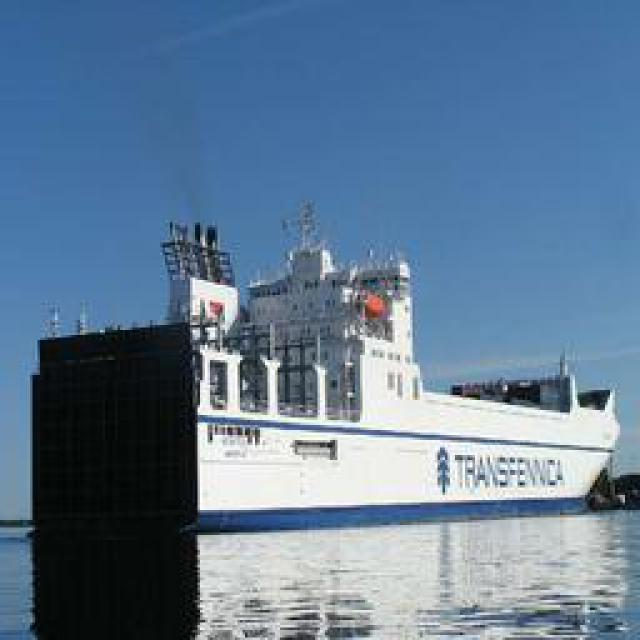Ship: (187, 235, 625, 523)
